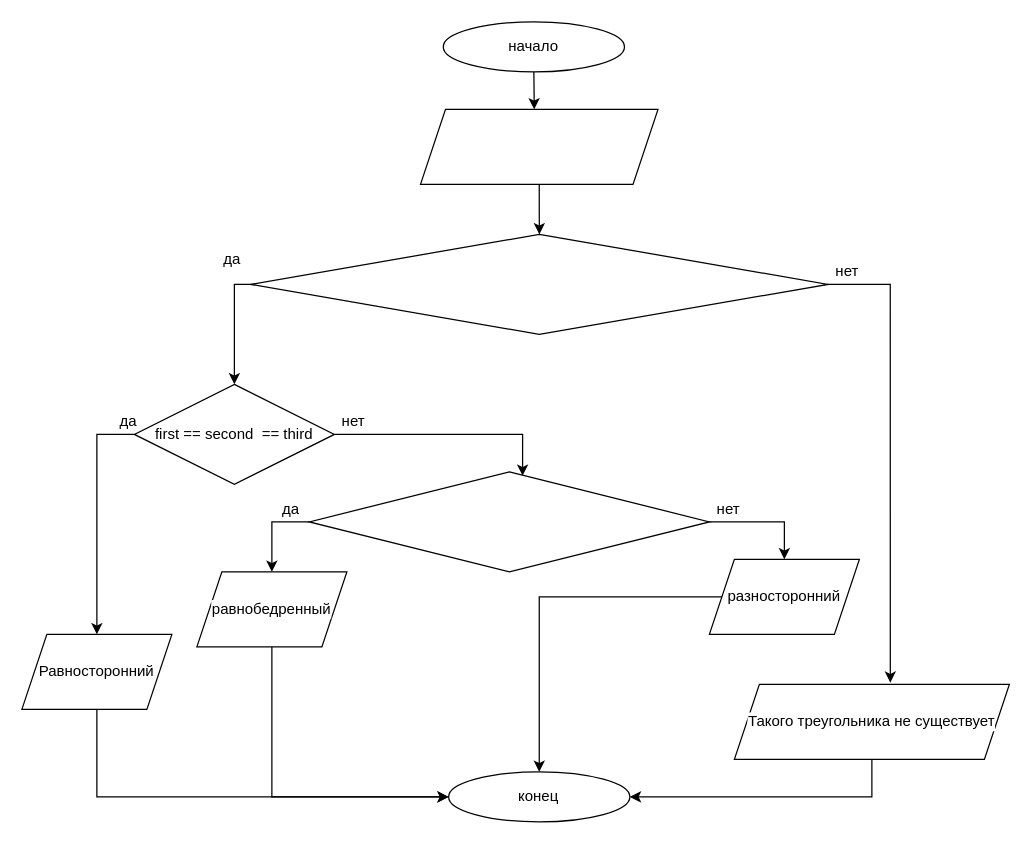
Some shapes in this 1031 by 844 pixel diagram are drawn without their labels. The shapes that lost their labels are listed below. From the top down, each one's centre as x and y in pixels, then its label:
At point 538,146: "пользователь вводит длины отрезков first, second, third".
At point 538,283: "first + second > third and first + third > second and second + third > first".
At point 508,521: "first == second or first == third or second == third".
